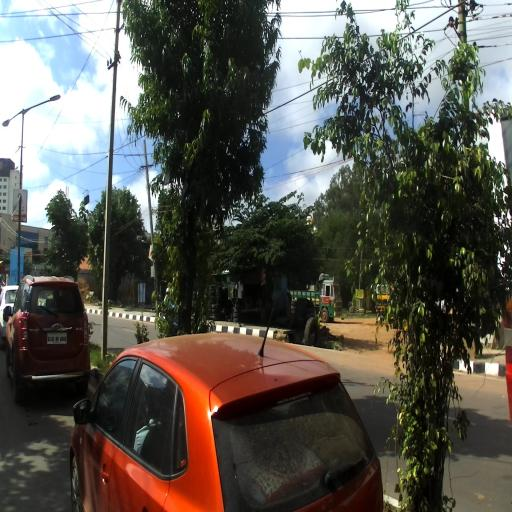street_light_0: (22, 94, 61, 131), (2, 110, 24, 132)
